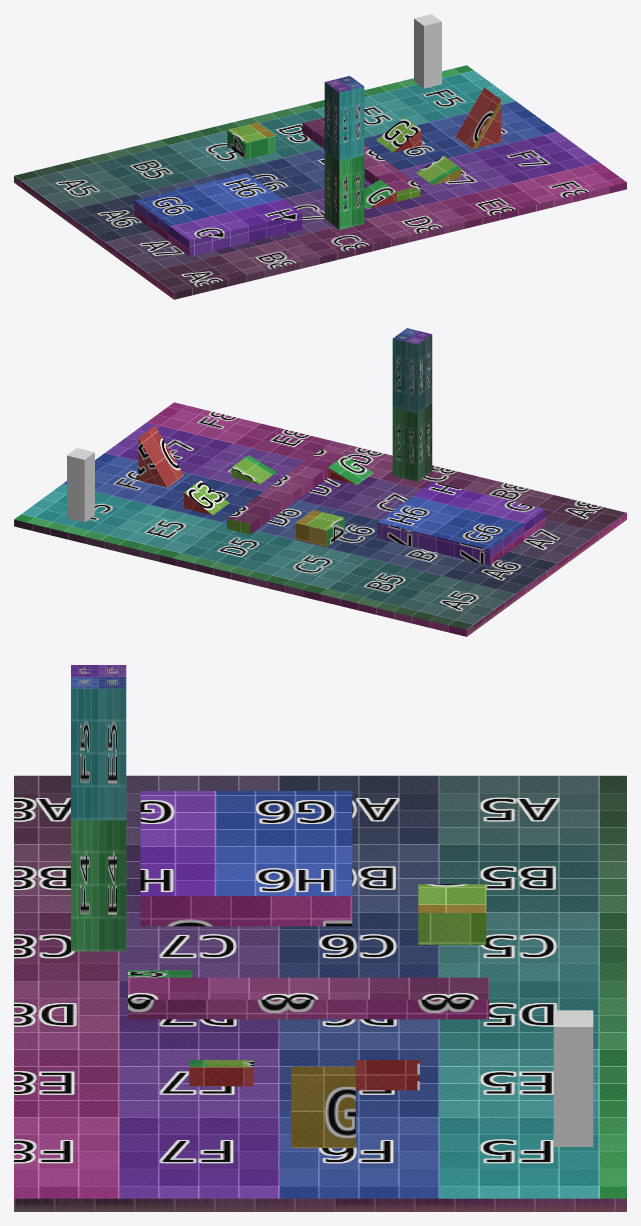
The model's file is sceneuv.gltf.
The picture shows the model from 3 angles, top to bottom: view 1: azimuth 30°, elevation 25°; view 2: azimuth 150°, elevation 25°; view 3: azimuth 270°, elevation 25°; orthographic projection. The views are drawn at different scales.
Visible parts, largest first — view 1: Cube, Cube.001; view 2: Cube, Cube.001; view 3: Cube, Cube.001.
Boxes of the visible parts, <box> form: Cube: <box>14,65,626,299</box>; Cube.001: <box>414,14,441,88</box>; Cube: <box>14,328,626,636</box>; Cube.001: <box>67,448,94,522</box>; Cube: <box>14,665,626,1211</box>; Cube.001: <box>553,1010,593,1146</box>.
Bounding box in the file's own units: 457 × 147 × 280.
Materials: 1 (1 with a texture image).
